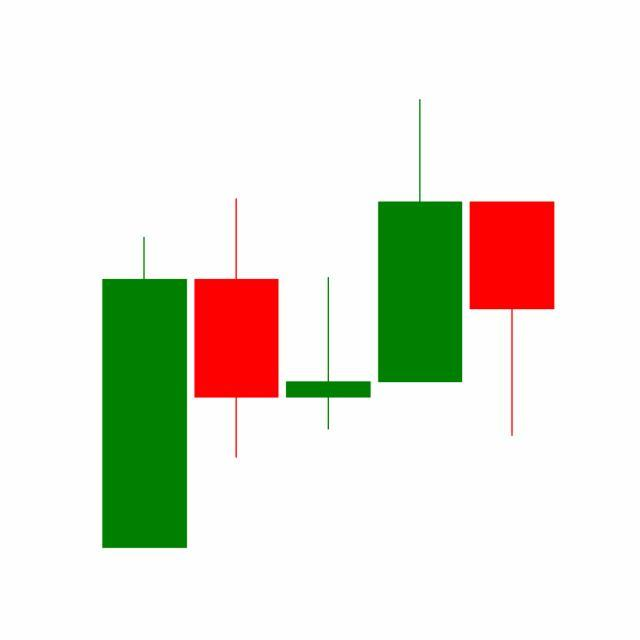Hammer: (466, 200, 559, 439)
